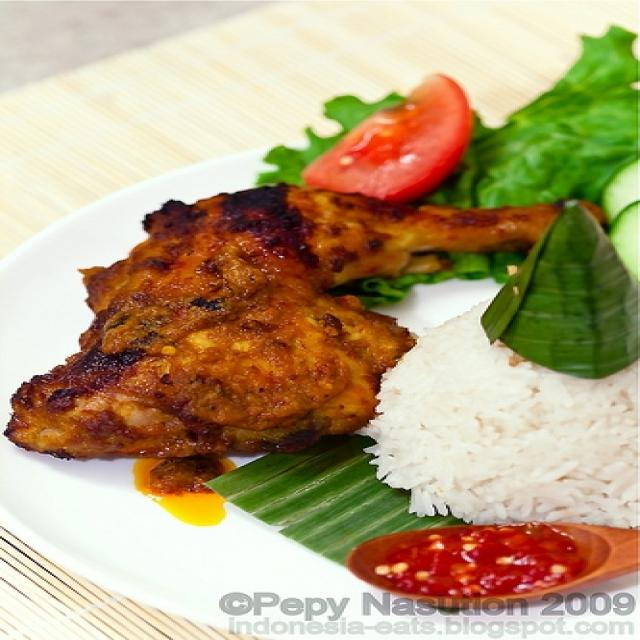鸡肉料理 含炸鸡: (15, 42, 608, 560)
